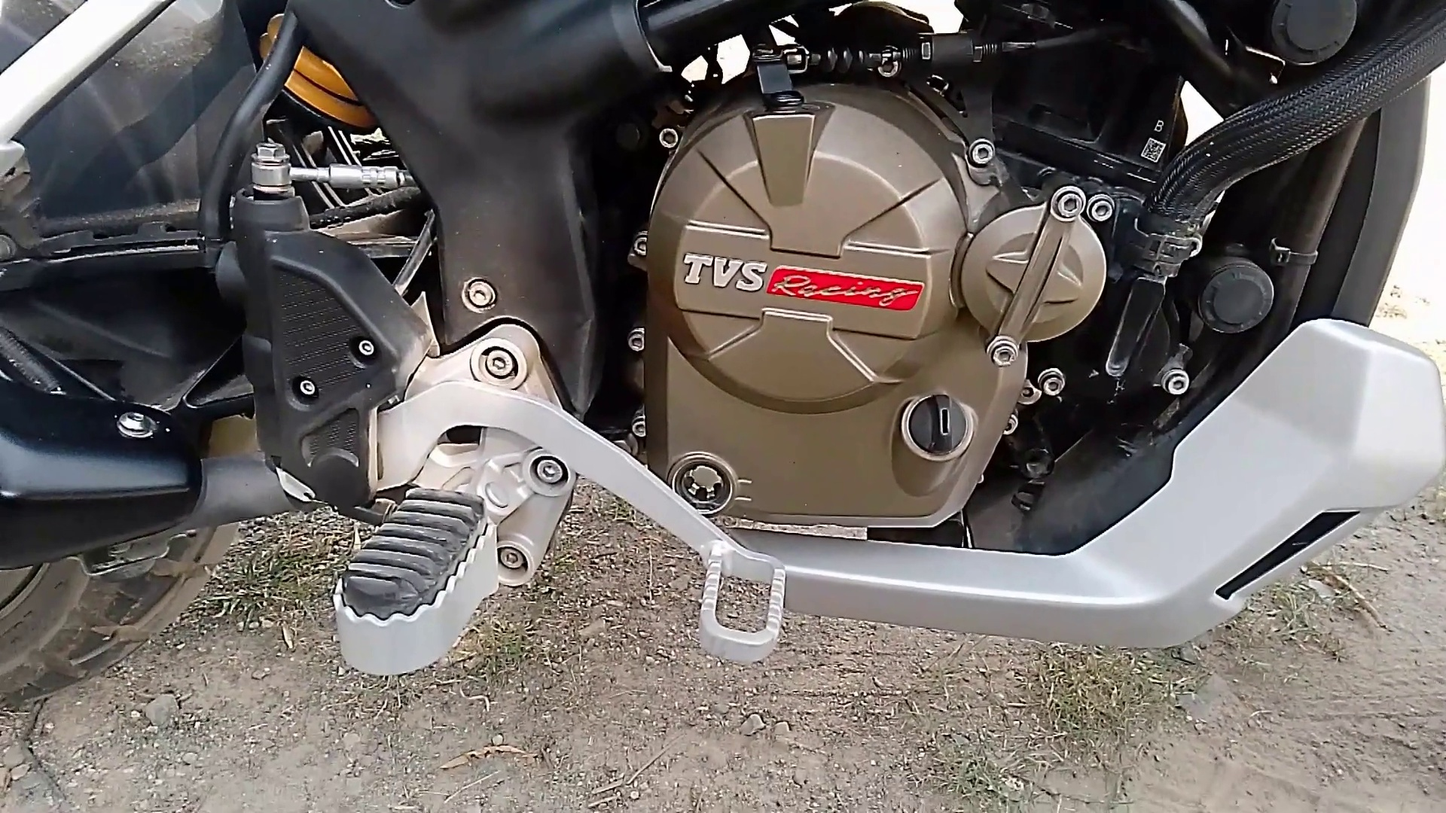engine: (608, 47, 1126, 576)
oil_cap: (892, 378, 983, 472)
oil_marker: (659, 440, 778, 534)
